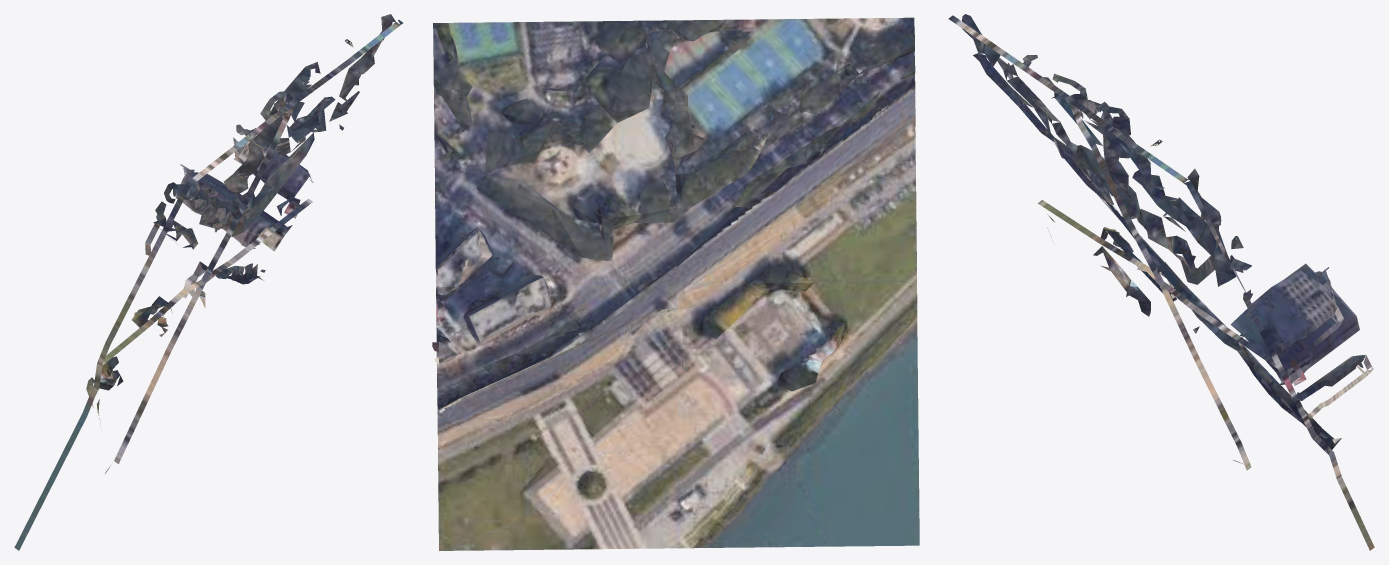
3 views of the same model, side by side, from view 1: azimuth 30°, elevation 25°; view 2: azimuth 150°, elevation 25°; view 3: azimuth 270°, elevation 25° (orthographic). The views are drawn at different scales.
Bounding box in the file's own units: 303 × 286 × 258.
2 materials, 2 textured.
